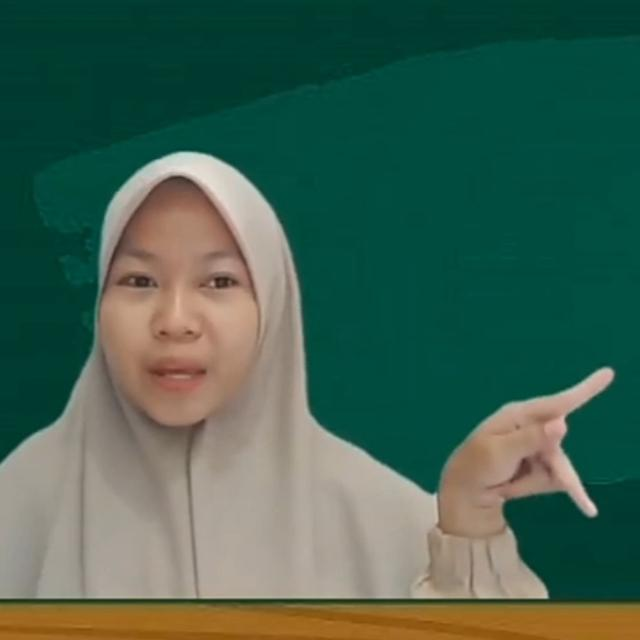P: (436, 366, 618, 522)
